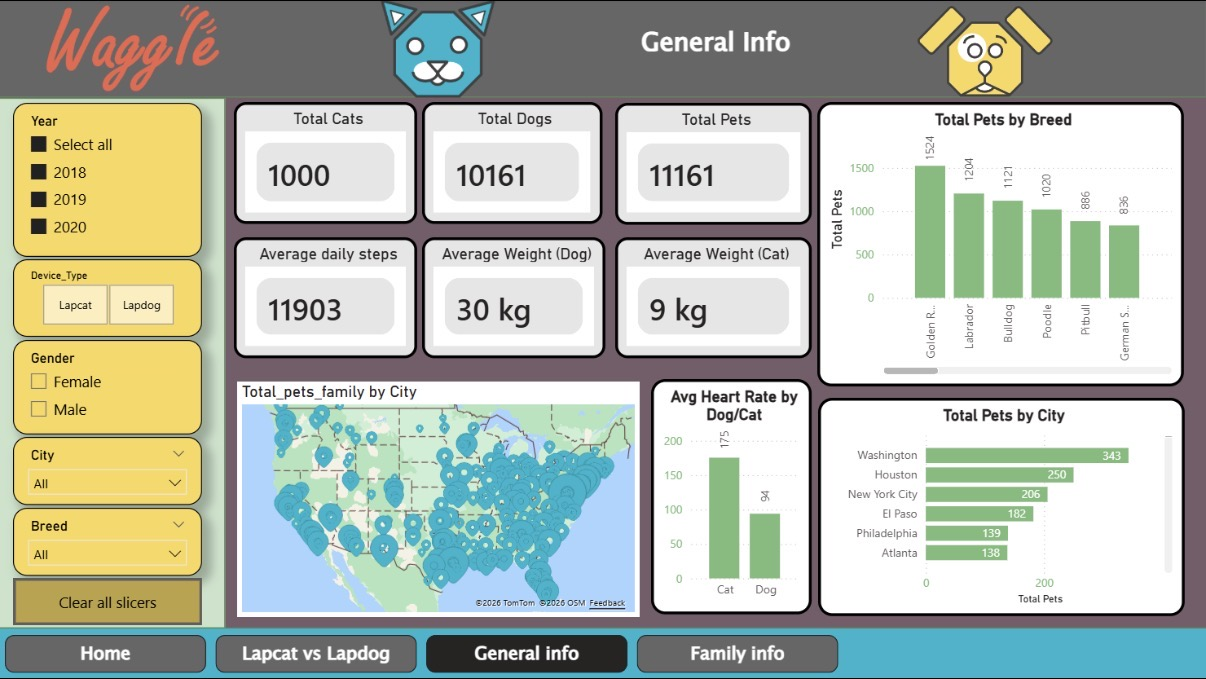

The page's visual inventory and layout, read from the dashboard file:
{"tool":"powerbi","page":{"name":"General info","canvas":[1280,720],"ordinal":2},"visuals":[{"type":"shape","box":[0,0,1280.3,720.2],"z":0},{"type":"shape","box":[0,0,1280,103.8],"z":0,"group":"g4"},{"type":"group","id":"g1","title":"Slicers","box":[0,103.9,240.9,561.3],"z":0,"group":"g3"},{"type":"shape","box":[0,103.9,240.9,561.3],"z":0,"group":"g1"},{"type":"shape","box":[0,665,1280.3,55],"z":0,"group":"g5"},{"type":"pageNavigator","box":[7.4,672.5,884.4,40],"z":0,"group":"g2"},{"type":"image","box":[25.3,4.4,234.9,95],"z":1000,"group":"g4"},{"type":"slicer","fields":{"Values":["Date_Table.Year"]},"box":[16.7,109.5,200.3,162.8],"z":1000,"group":"g1"},{"type":"cardVisual","title":"Average daily steps","fields":{"Data":["Tracker_Data.Average Steps"]},"box":[250.2,251.9,194,127.7],"z":1000},{"type":"actionButton","box":[16.7,612.1,200.3,50.1],"z":1000,"group":"g3"},{"type":"group","id":"g2","title":"Footer","box":[7.4,672.5,884.4,40],"z":1000,"group":"g5"},{"type":"textbox","box":[240.7,20.9,1039.3,61.2],"z":2000,"group":"g4"},{"type":"slicer","fields":{"Values":["Rating_Data.Device_Type"]},"box":[16.7,275,200.3,82.1],"z":2000,"group":"g1"},{"type":"barChart","fields":{"Category":["Family_Data.City"],"Y":["_Measurements.Total Pets"]},"box":[868.1,422,387.8,231.4],"z":2000},{"type":"slicer","fields":{"Values":["Pet_Data.Gender"]},"box":[16.7,359.9,200.3,100.2],"z":3000,"group":"g1"},{"type":"azureMap","fields":{"Category":["Family_Data.City","Family_Data.State"],"Size":["_Measurements.Total_pets_family"]},"box":[253.2,404.9,425.7,249],"z":3000},{"type":"group","id":"g3","title":"Slicers","box":[0,103.9,240.9,561.3],"z":4000},{"type":"slicer","fields":{"Values":["Family_Data.City"]},"box":[16.7,462.9,200.3,72.3],"z":4000,"group":"g1"},{"type":"columnChart","fields":{"Category":["Pet_Data.Breed"],"Y":["_Measurements.Total Pets"]},"box":[868.1,108.9,388.1,301.3],"z":5000},{"type":"slicer","fields":{"Values":["Pet_Data.Breed"]},"box":[16.7,538,200.3,72.3],"z":5000,"group":"g1"},{"type":"cardVisual","title":"Total Pets","fields":{"Data":["_Measurements.Total Pets"]},"box":[653.4,109.2,208.2,128.6],"z":6000},{"type":"cardVisual","title":"Total Dogs","fields":{"Data":["_Measurements.Total Dogs"]},"box":[449.4,108.9,190.6,129.4],"z":7000},{"type":"cardVisual","title":"Total Cats","fields":{"Data":["_Measurements.Total Cats"]},"box":[250.2,108.9,194,129.4],"z":8000},{"type":"cardVisual","title":"Average Weight (Dog)","fields":{"Data":["_Measurements.Average Weights"]},"box":[449.4,251.9,194,127.7],"z":9000},{"type":"cardVisual","title":"Average Weight (Cat)","fields":{"Data":["_Measurements.Average Weights"]},"box":[653.4,251.7,208.2,127.7],"z":10000},{"type":"group","id":"g4","title":"Header","box":[0,0,1280,103.8],"z":11000},{"type":"image","box":[404.9,0,123.8,104.3],"z":12000},{"type":"image","box":[973.9,0,143.3,109.9],"z":13000},{"type":"columnChart","fields":{"Y":["_Measurements.Avg Heart Rate"],"Category":["Tracker_Data.Dog/Cat"]},"box":[691.4,401.7,170.3,249],"z":14000},{"type":"group","id":"g5","title":"Footer","box":[0,665,1280.3,55],"z":15000}]}

Visuals, with their boxes in screenshot pixels (x1, y1, x2, y2), scaled from the page's 1280x720 canvas onto the 1206x679 screenshot:
shape: box(0, 0, 1205, 678)
shape: box(0, 0, 1205, 98)
"Slicers" group: box(0, 98, 227, 627)
shape: box(0, 98, 227, 627)
shape: box(0, 627, 1205, 678)
pageNavigator: box(7, 634, 840, 672)
image: box(24, 4, 245, 94)
slicer - Date_Table.Year: box(16, 103, 204, 257)
"Average daily steps" cardVisual: box(236, 238, 419, 358)
actionButton: box(16, 577, 204, 624)
"Footer" group: box(7, 634, 840, 672)
textbox: box(227, 20, 1205, 77)
slicer - Rating_Data.Device_Type: box(16, 259, 204, 337)
barChart - Family_Data.City x _Measurements.Total Pets: box(818, 398, 1183, 616)
slicer - Pet_Data.Gender: box(16, 339, 204, 434)
azureMap - Family_Data.City x Family_Data.State: box(239, 382, 640, 617)
"Slicers" group: box(0, 98, 227, 627)
slicer - Family_Data.City: box(16, 437, 204, 505)
columnChart - Pet_Data.Breed x _Measurements.Total Pets: box(818, 103, 1184, 387)
slicer - Pet_Data.Breed: box(16, 507, 204, 576)
"Total Pets" cardVisual: box(616, 103, 812, 224)
"Total Dogs" cardVisual: box(423, 103, 603, 225)
"Total Cats" cardVisual: box(236, 103, 419, 225)
"Average Weight (Dog)" cardVisual: box(423, 238, 606, 358)
"Average Weight (Cat)" cardVisual: box(616, 237, 812, 358)
"Header" group: box(0, 0, 1205, 98)
image: box(381, 0, 498, 98)
image: box(918, 0, 1053, 104)
columnChart - _Measurements.Avg Heart Rate x Tracker_Data.Dog/Cat: box(651, 379, 812, 614)
"Footer" group: box(0, 627, 1205, 678)
